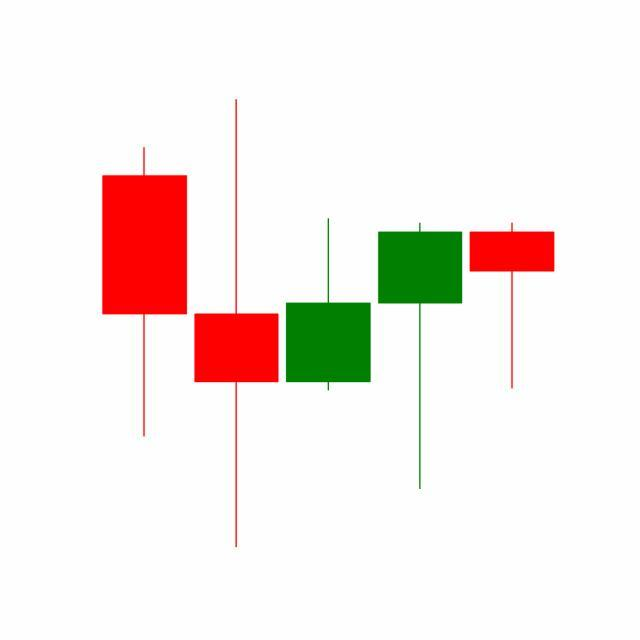Hanging Man: (466, 221, 559, 391)
